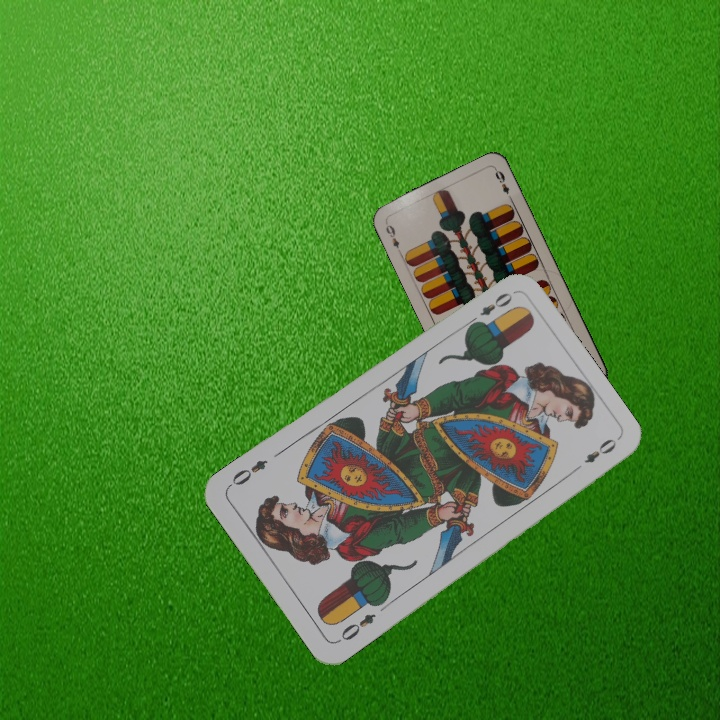E9: (381, 218, 404, 256)
EO: (463, 288, 515, 330), (333, 609, 379, 646)
